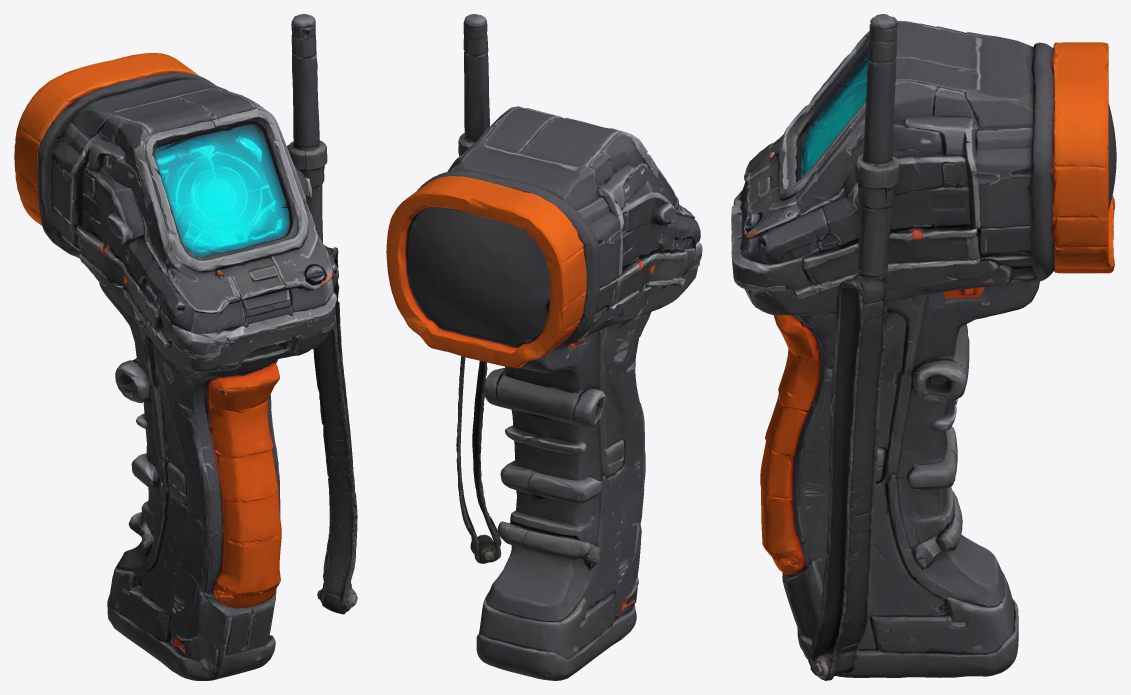
Rendered from objet-scanner.glb.
3 views of the same model, side by side, from view 1: azimuth 30°, elevation 25°; view 2: azimuth 150°, elevation 25°; view 3: azimuth 270°, elevation 25° (orthographic). The views are drawn at different scales.
Size of the model in its own units: 0.3823 by 0.9788 by 0.4913.
1 material, 1 textured.
